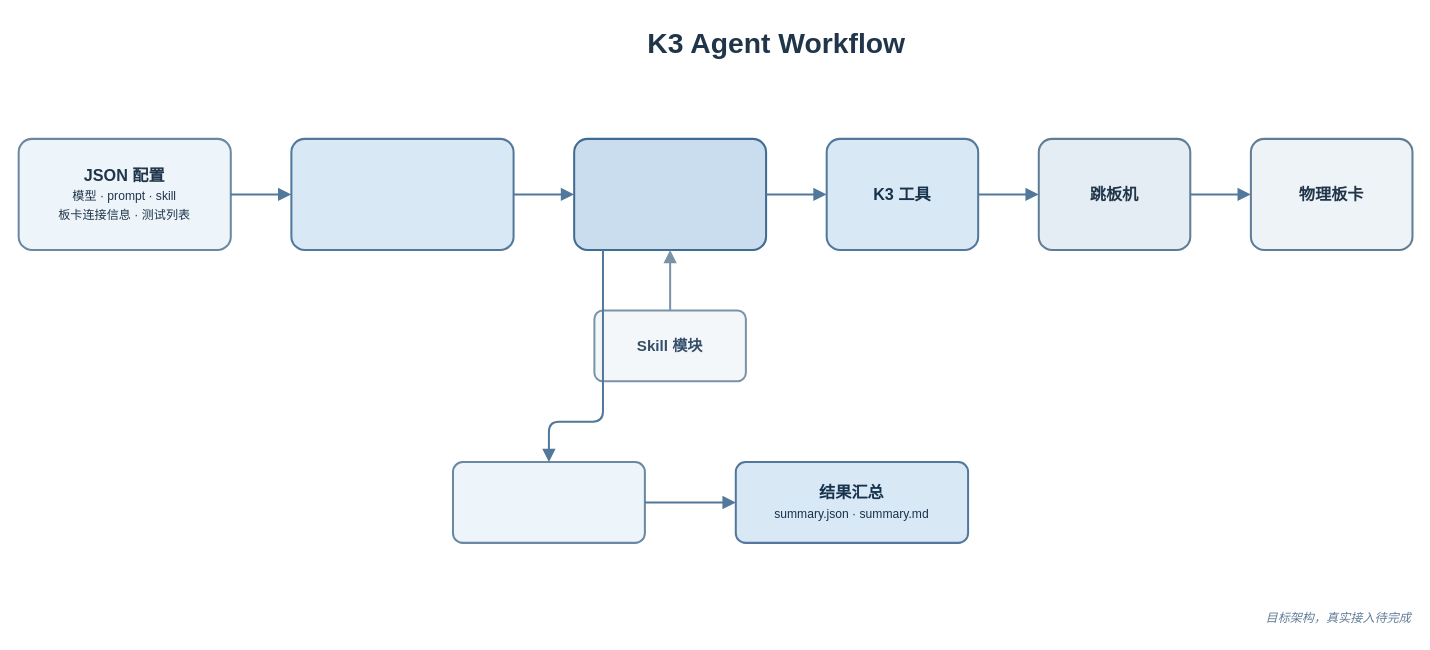
This 1430x650 diagram has some shape labels left out. Here are the shapes that lost their labels. From the top down, the centre of each, then its label:
point 402,193: Core 编排器 解析 · 串行调度 · 状态管理
point 670,193: 单个执行 Agent
point 548,502: 日志与证据
